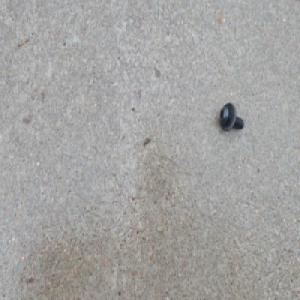BoltWasher: (217, 104, 243, 135)
